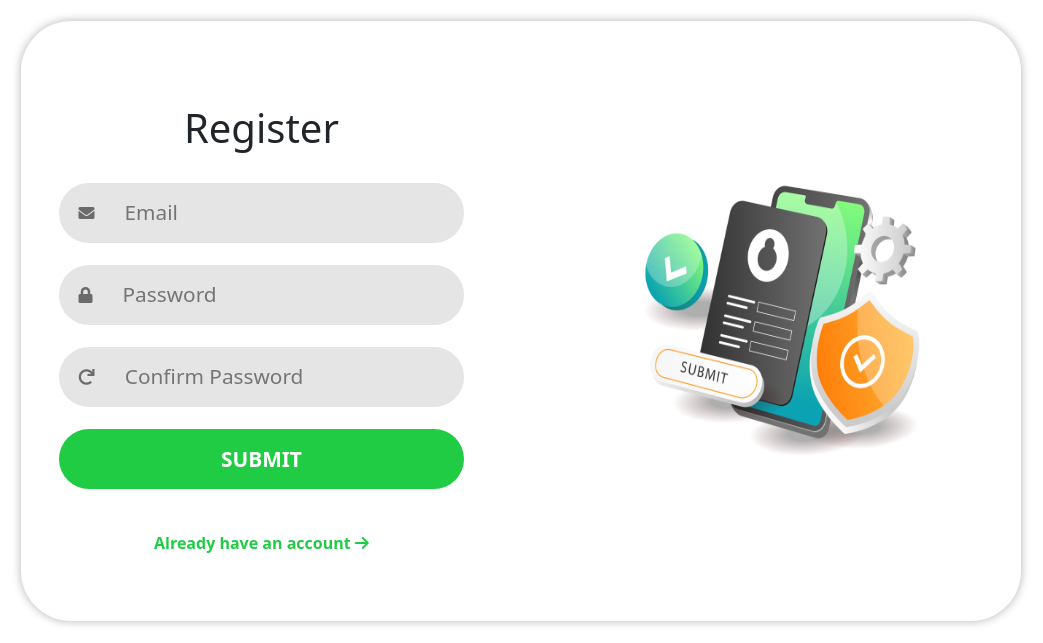
Test: Register Component › should display error when password's length is invalid
Type "123" into the password field named "password" at (266, 295), box [92,279,440,310]
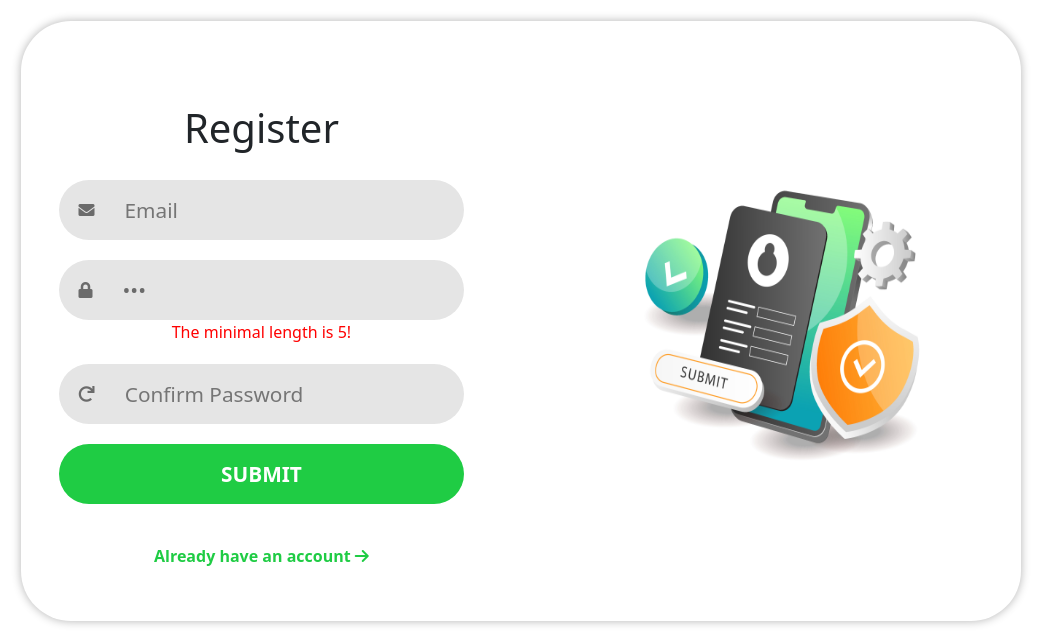
Expected: the text "The minimal length is 5!" is shown, [172,322,351,344]
